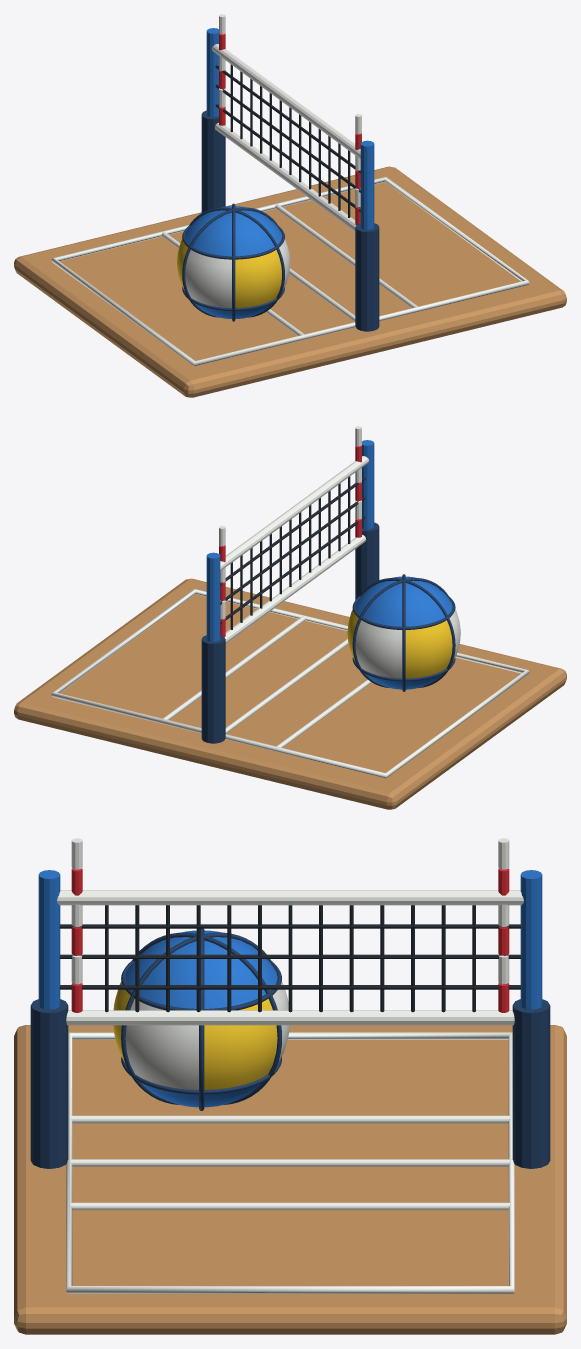
The model's file is volleyball.glb.
3 views of the same model, one above another, from view 1: azimuth 30°, elevation 25°; view 2: azimuth 150°, elevation 25°; view 3: azimuth 270°, elevation 25° (orthographic). The views are drawn at different scales.
Visible parts, largest first — view 1: volleyball; view 2: volleyball; view 3: volleyball.
Boxes of the visible parts, x1,y1,x2,y2 form: volleyball: (14,14,566,397); volleyball: (14,426,566,809); volleyball: (14,838,566,1334).
Bounding box in the file's own units: 0.35 × 0.197 × 0.28.
